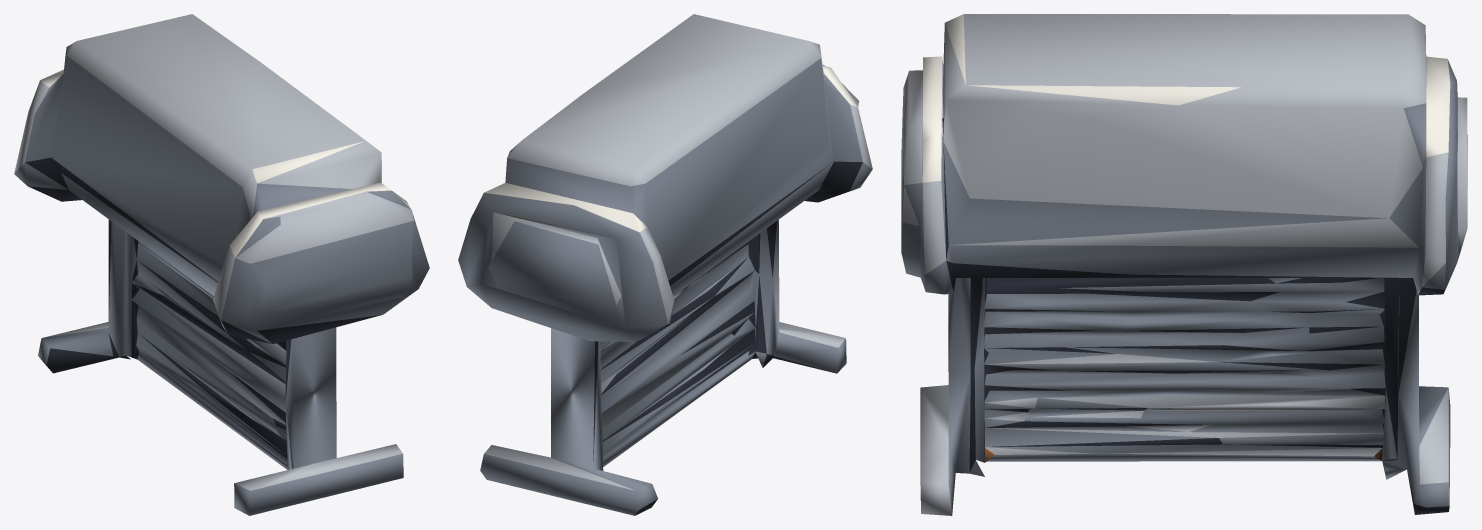
Rendered from SM_heater_wall.glb.
The picture shows the model from 3 angles, left to right: view 1: azimuth 30°, elevation 25°; view 2: azimuth 150°, elevation 25°; view 3: azimuth 270°, elevation 25°; orthographic projection. The views are drawn at different scales.
Parts seen in each view (by area): view 1: SM_heater_wall; view 2: SM_heater_wall; view 3: SM_heater_wall.
Part boxes in pixels (left/top/right/bottom): SM_heater_wall: left=14, top=14, right=429, bottom=515; SM_heater_wall: left=458, top=14, right=872, bottom=515; SM_heater_wall: left=901, top=14, right=1467, bottom=515.
Bounding box in the file's own units: 0.1994 × 0.3 × 0.3668.
1 material, 1 textured.
